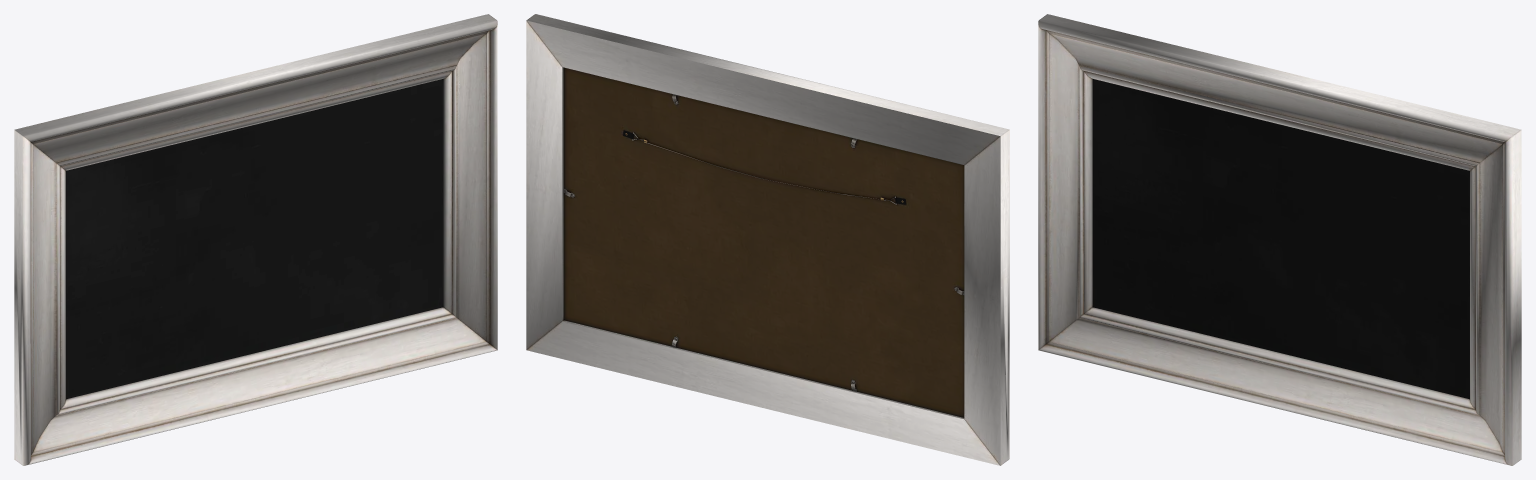
The model's file is hanging_picture_frame_02.glb.
3 renders of one model, left to right at view 1: azimuth 30°, elevation 25°; view 2: azimuth 150°, elevation 25°; view 3: azimuth 330°, elevation 25°, orthographic.
Visible parts, largest first — view 1: hanging_picture_frame_02; view 2: hanging_picture_frame_02; view 3: hanging_picture_frame_02.
Boxes of the visible parts, left/top/right/bottom form: hanging_picture_frame_02: left=14, top=14, right=497, bottom=465; hanging_picture_frame_02: left=526, top=14, right=1009, bottom=465; hanging_picture_frame_02: left=1038, top=14, right=1521, bottom=465.
Bounding box in the file's own units: 0.7512 × 0.4988 × 0.0322.
3 materials, 3 textured.
